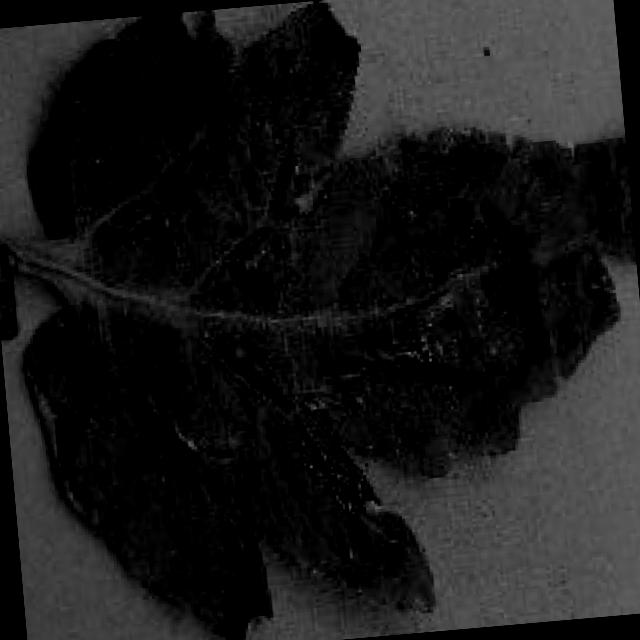bacterial spot: (9, 0, 637, 640)
